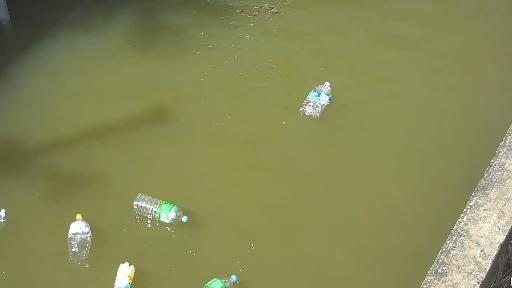plastic: (132, 190, 192, 227), (62, 208, 98, 264), (299, 77, 336, 121), (109, 264, 142, 288), (195, 272, 239, 288), (0, 202, 8, 227)
